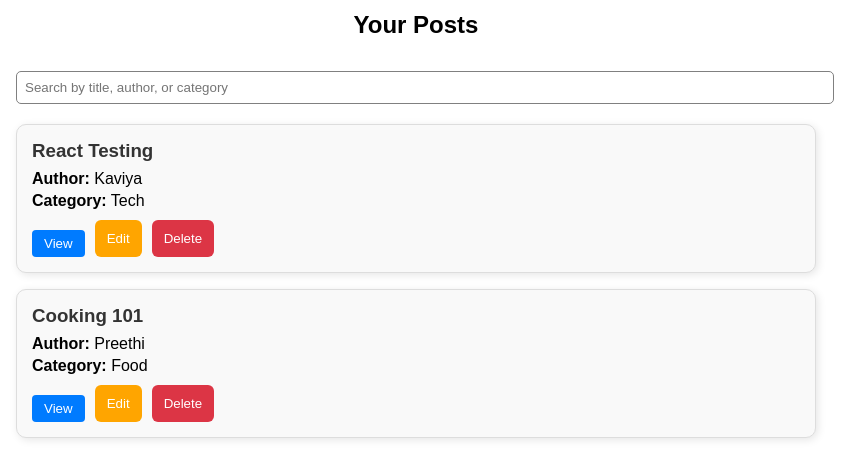
Scenario: filters posts based on search input
Expected: the heading "React Testing" is shown, [32,140,153,161]
In the field with placeholder "Search by title, author, or category": x=425, y=87 [16,71,834,104], type "cooking"
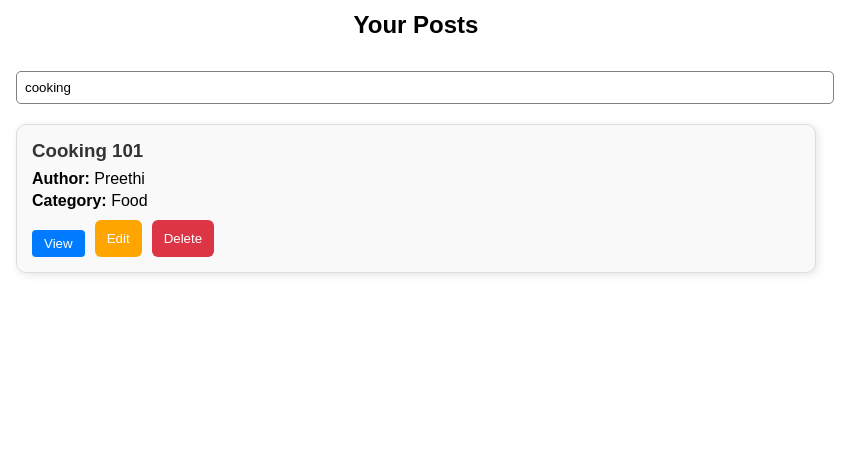
Expected: the heading "Cooking 101" is shown, [32,140,143,161]
Now the heading "React Testing" is gone
